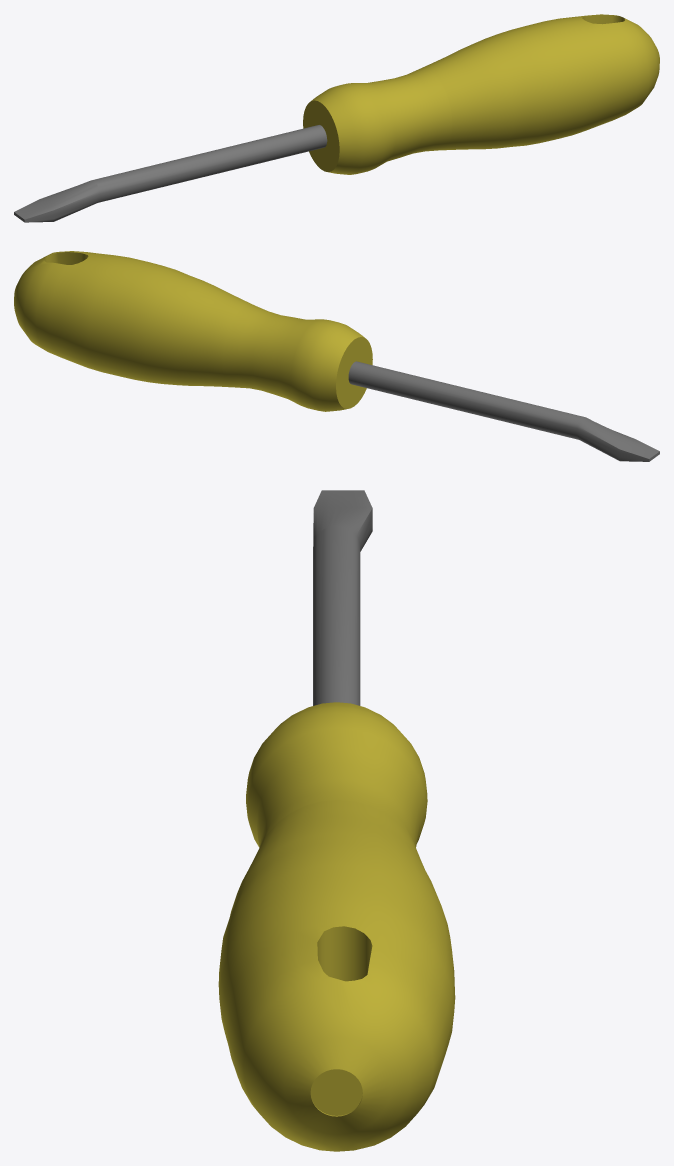
The model's file is otvertka.fbx.
The picture shows the model from 3 angles, top to bottom: view 1: azimuth 30°, elevation 25°; view 2: azimuth 150°, elevation 25°; view 3: azimuth 270°, elevation 25°; orthographic projection. The views are drawn at different scales.
Visible parts, largest first — view 1: Cylinder, Cylinder.001; view 2: Cylinder, Cylinder.001; view 3: Cylinder, Cylinder.001.
Part boxes in pixels (left/top/right/bottom): Cylinder: left=303, top=14, right=659, bottom=174; Cylinder.001: left=14, top=125, right=327, bottom=222; Cylinder: left=14, top=251, right=372, bottom=411; Cylinder.001: left=348, top=361, right=659, bottom=461; Cylinder: left=218, top=702, right=455, bottom=1151; Cylinder.001: left=313, top=490, right=372, bottom=705.
Size of the model in its own units: 232 by 37.52 by 37.6.
